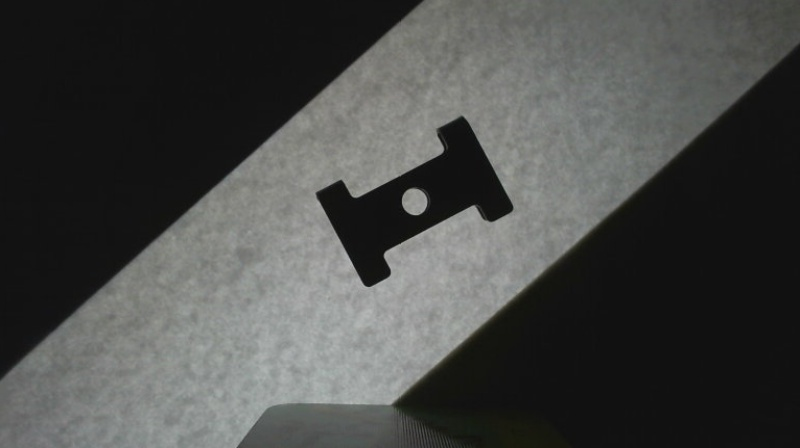O002: (314, 113, 516, 290)
